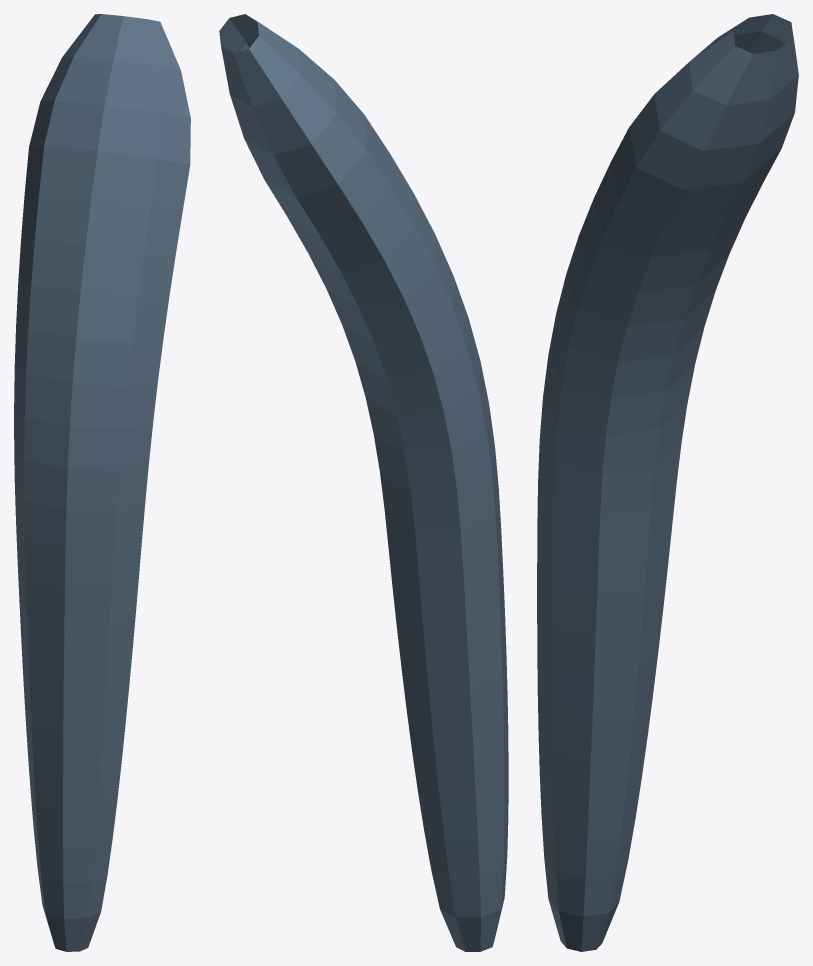
File: plume_tall.glb
3 renders of one model, left to right at view 1: azimuth 30°, elevation 25°; view 2: azimuth 150°, elevation 25°; view 3: azimuth 270°, elevation 25°, orthographic. The views are drawn at different scales.
Parts seen in each view (by area): view 1: plume_tall; view 2: plume_tall; view 3: plume_tall.
Boxes of the visible parts, x1,y1,x2,y2 form: plume_tall: (14,14,190,951); plume_tall: (219,14,508,951); plume_tall: (537,14,798,951).
Bounding box in the file's own units: 3.13 × 13.16 × 3.13.
